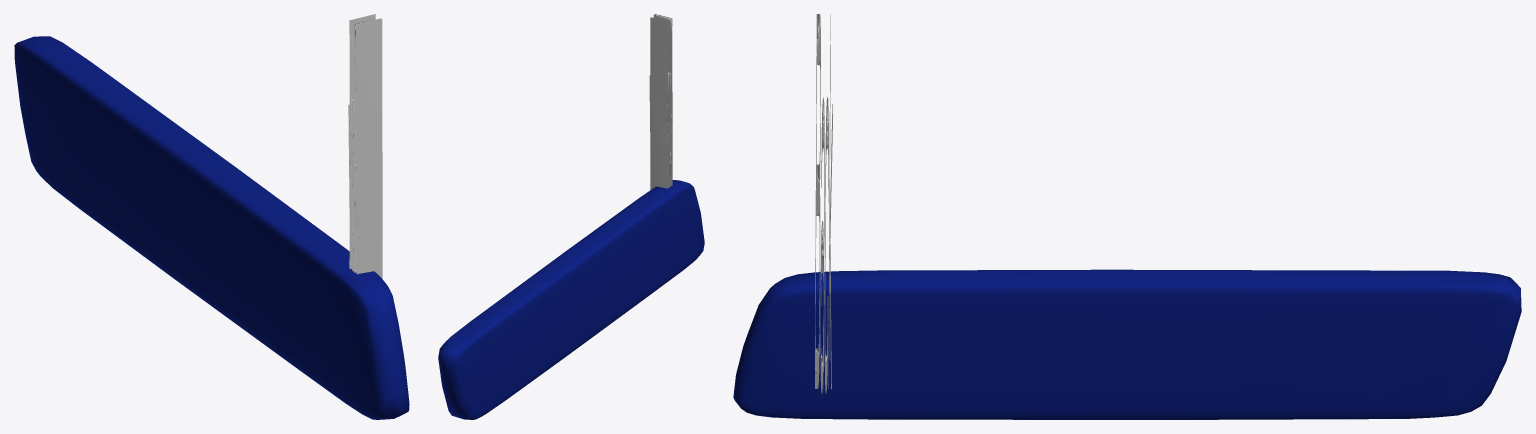
The model's file is Back.fbx.
The picture shows the model from 3 angles, left to right: view 1: azimuth 30°, elevation 25°; view 2: azimuth 150°, elevation 25°; view 3: azimuth 270°, elevation 25°; orthographic projection. The views are drawn at different scales.
Parts seen in each view (by area): view 1: Button, Text; view 2: Button, Text; view 3: Button, Text.
Part boxes in pixels (<box>): Button: <box>14,36,409,419</box>; Text: <box>348,14,382,278</box>; Button: <box>438,180,704,419</box>; Text: <box>649,14,672,189</box>; Button: <box>733,269,1521,419</box>; Text: <box>815,14,832,393</box>.
Size of the model in its own units: 0.5837 by 4.95 by 8.87.
